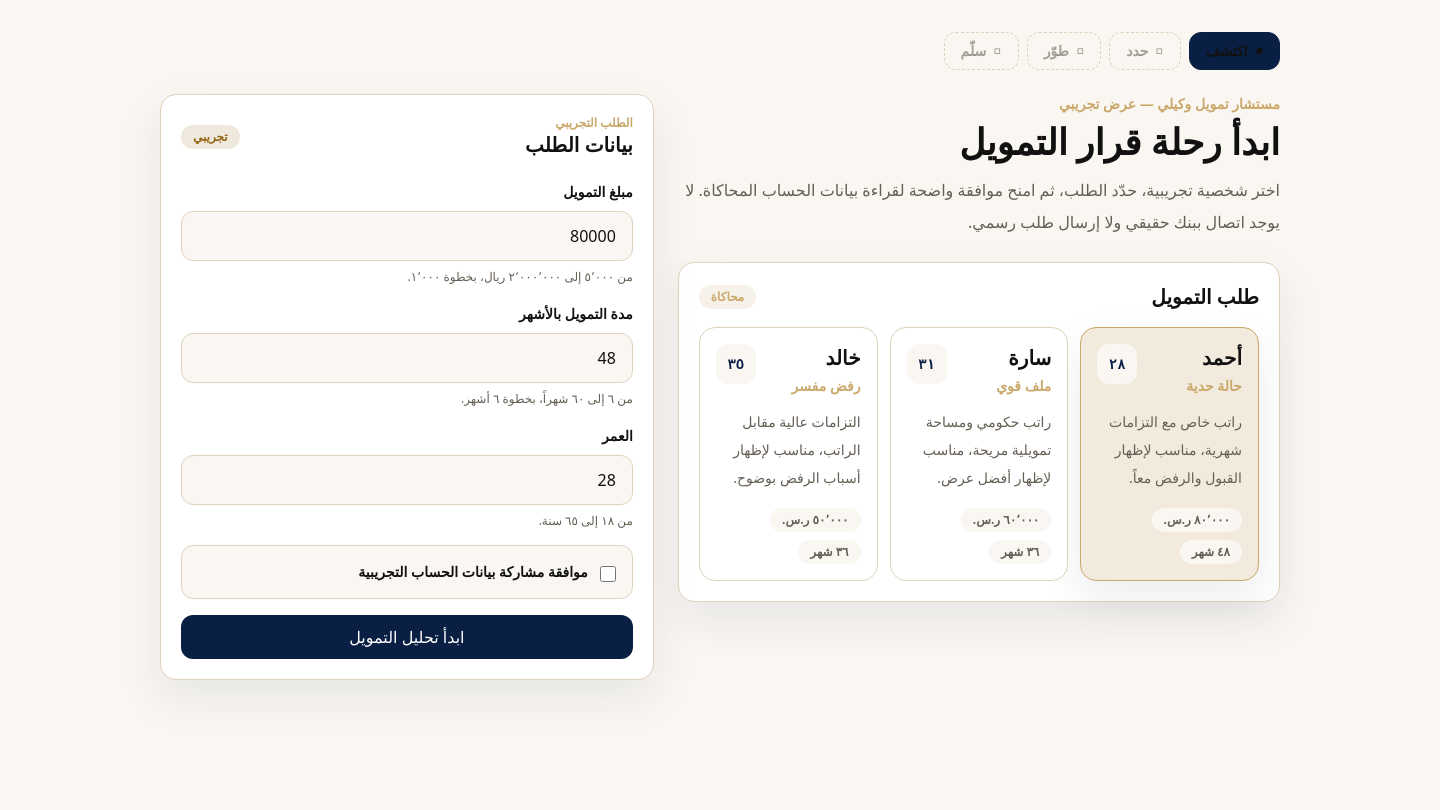
Test case: JourneyStartPage › blocks invalid input with inline Arabic messages
This screenshot has width=1440, height=810.
Replace the text in the number field labelled "مبلغ التمويل" with "4000". click: (407, 236)
box: [181, 211, 633, 261]
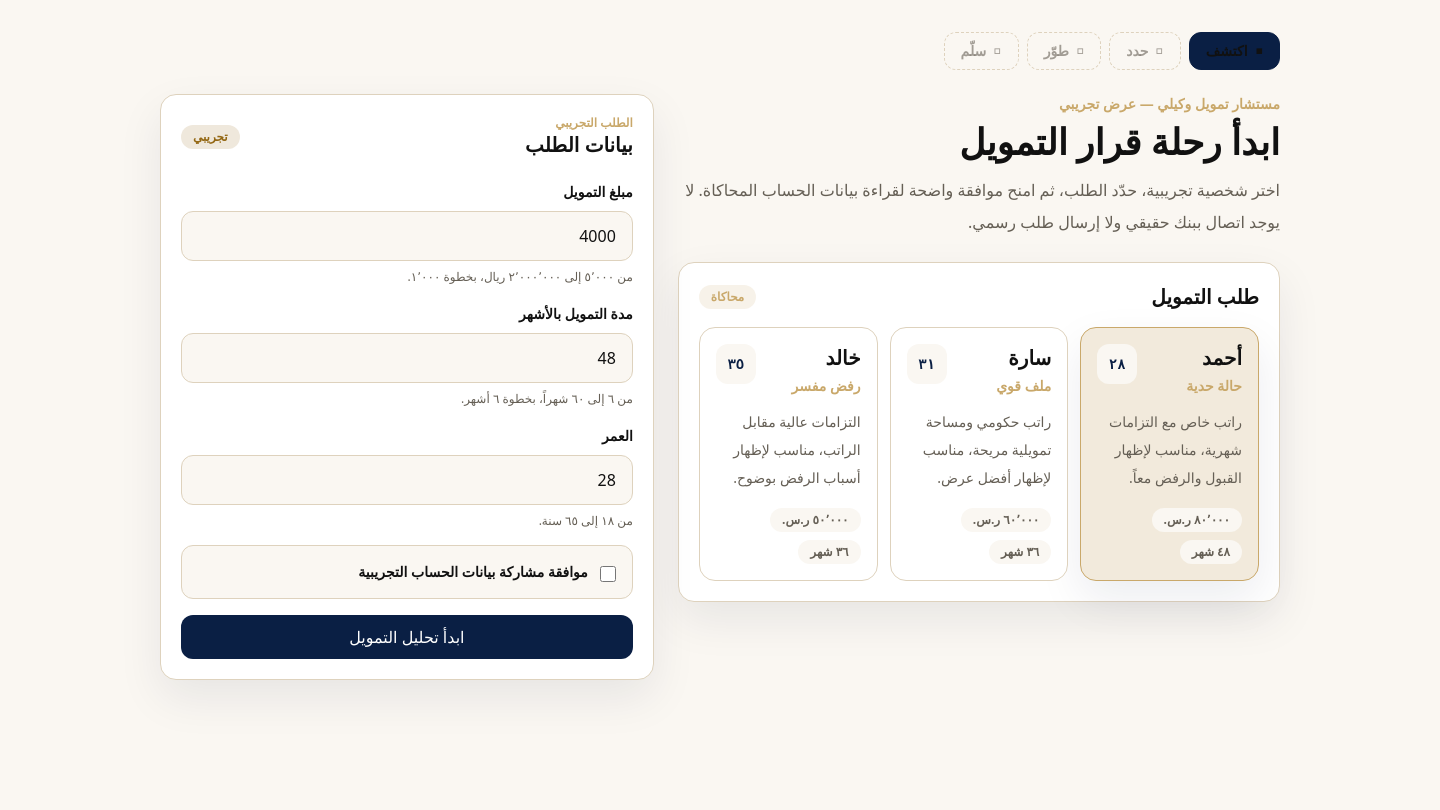
Replace the text in the number field labelled "مدة التمويل بالأشهر" with "7". click: (407, 358)
box: [181, 333, 633, 383]
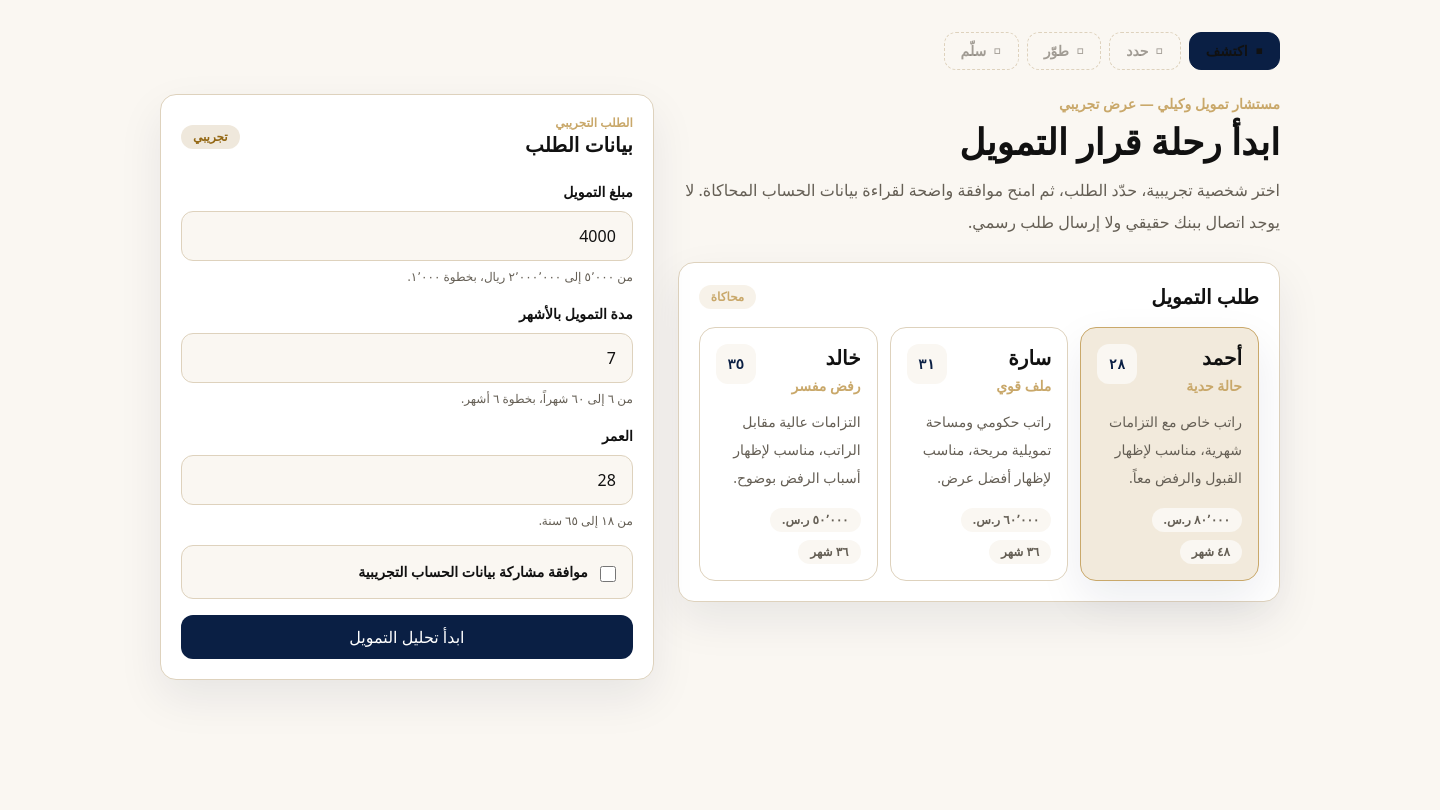
Replace the text in the number field labelled "العمر" with "17". click: (407, 480)
box: [181, 455, 633, 505]
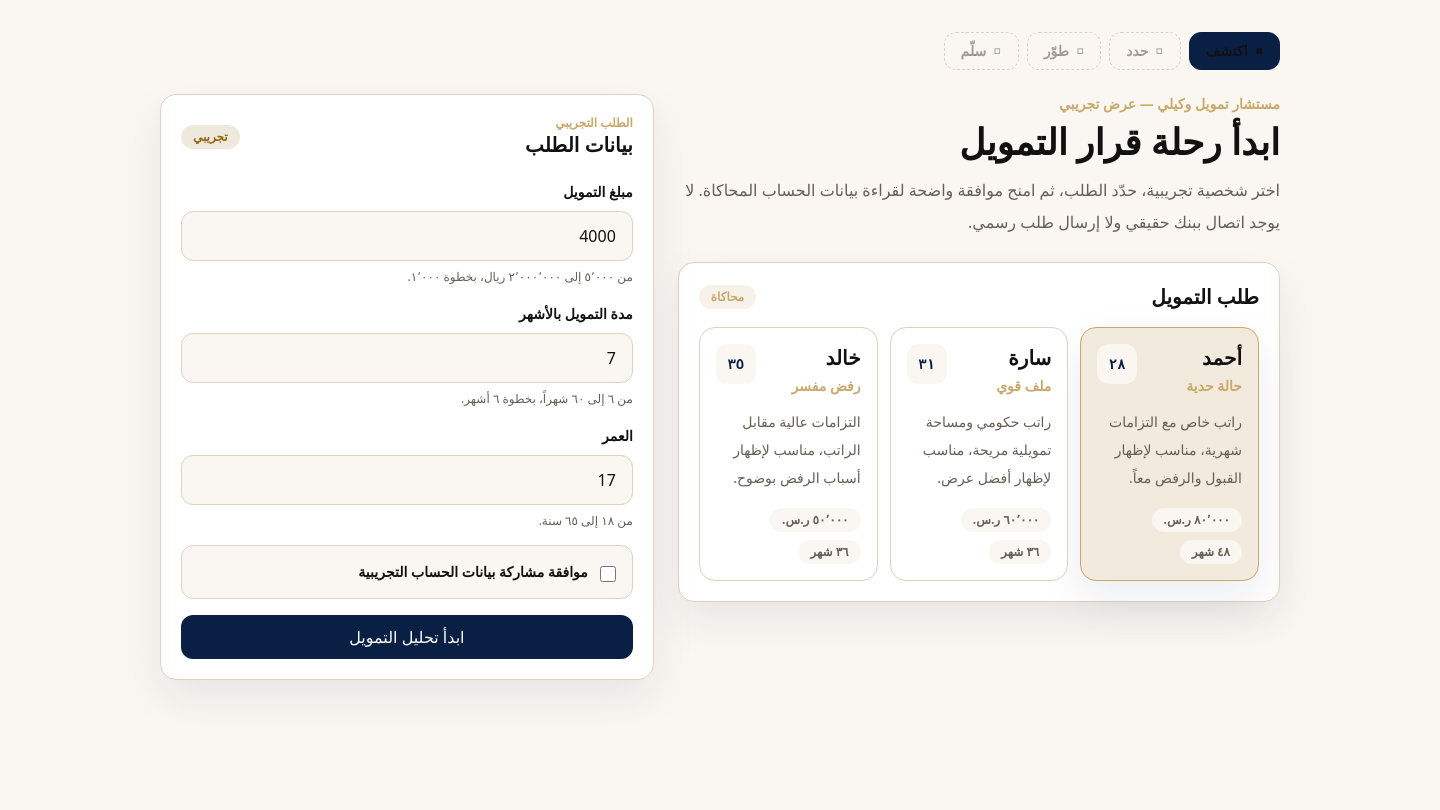
Click the button "ابدأ تحليل التمويل". click: (407, 637)
box: [181, 615, 633, 659]
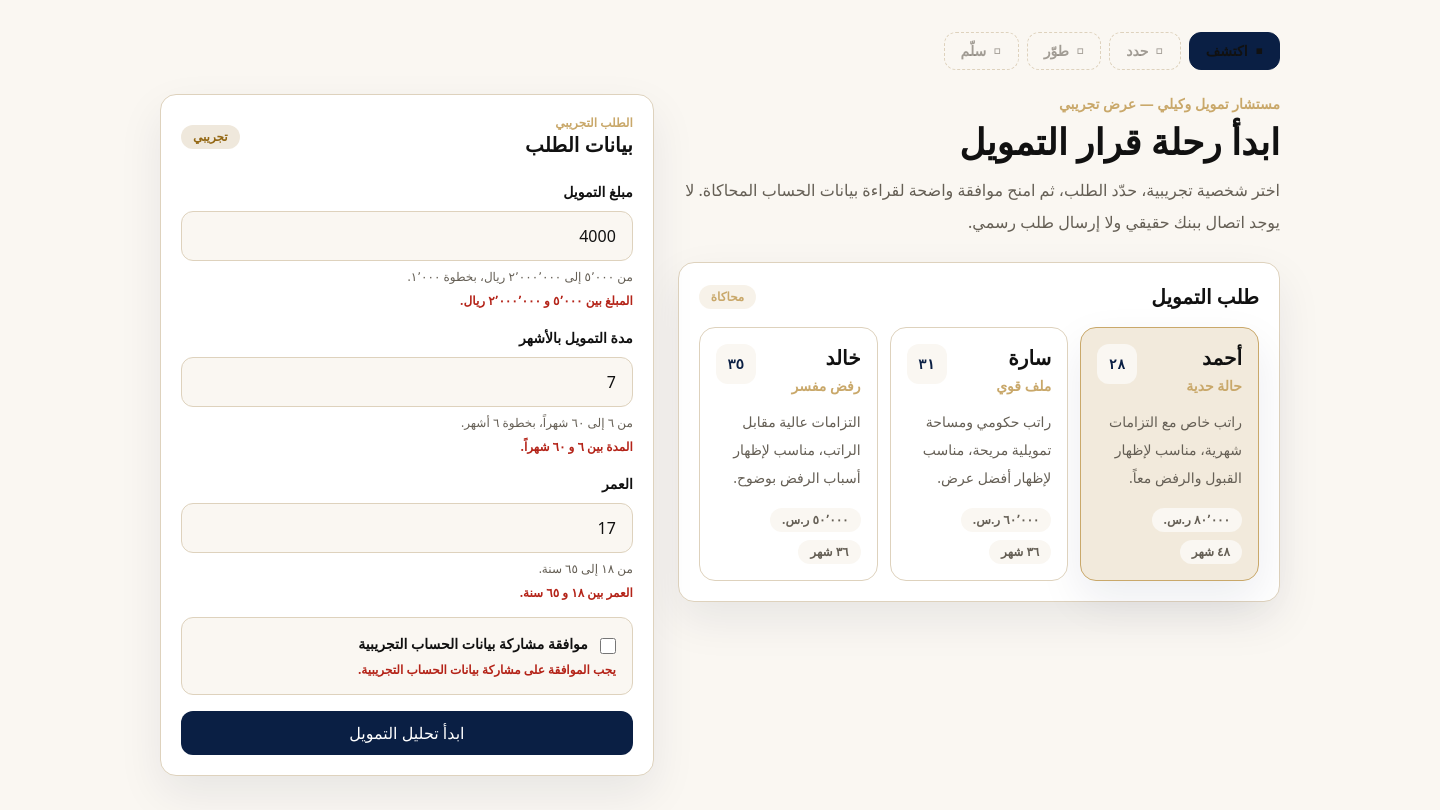
expect the text "المبلغ بين ٥٬٠٠٠ و ٢٬٠٠٠٬٠٠٠ ريال." is shown: met, box [460, 292, 633, 309]
expect the text "المدة بين ٦ و ٦٠ شهراً." is shown: met, box [520, 438, 633, 455]
expect the text "العمر بين ١٨ و ٦٥ سنة." is shown: met, box [520, 584, 633, 601]
